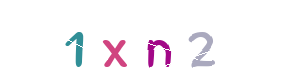1: (37, 0, 117, 80)
2: (145, 0, 225, 80)
N: (105, 0, 185, 80)
X: (97, 0, 177, 80)
